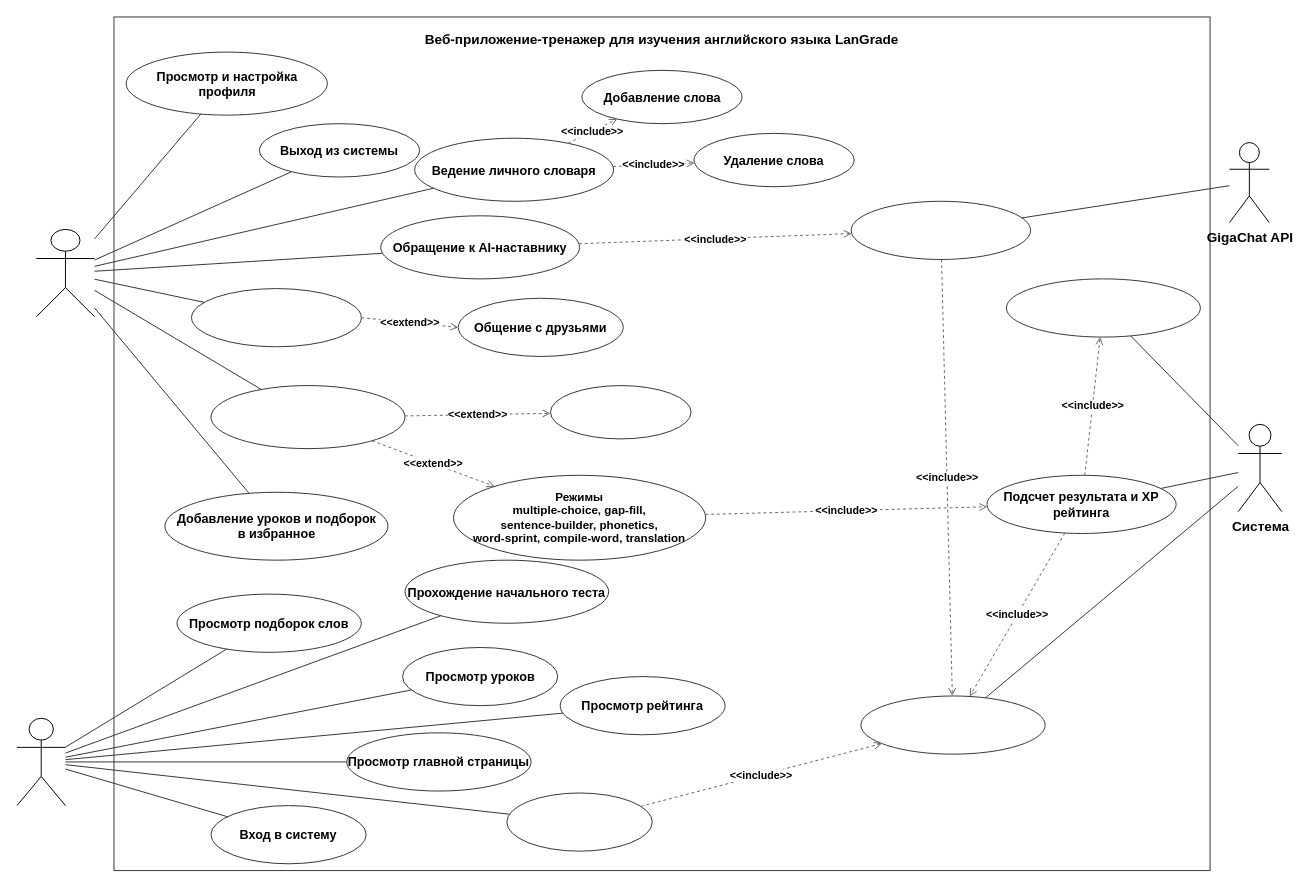
This 1310x888 diagram has some shape labels left out. The shapes that lost their labels are listed below. From the top down, each one's centre as x and y in pixels, then its label:
At point 940,229: "Формирование ответа AI".
At point 65,272: "Пользователь".
At point 276,317: "Управление друзьями".
At point 1102,307: "Начисление достижений".
At point 307,417: "Прохождение тренировок".
At point 620,412: "Режим flashcards".
At point 952,724: "Сохранение данных в БД".
At point 40,761: "Гость".
At point 579,821: "Регистрация".
